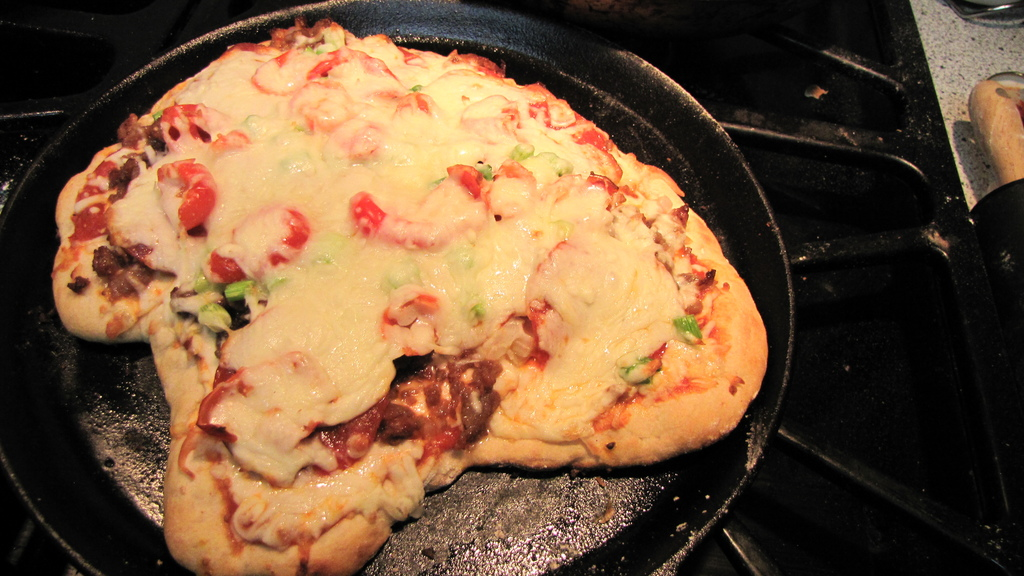Pizza: (52, 6, 771, 575)
